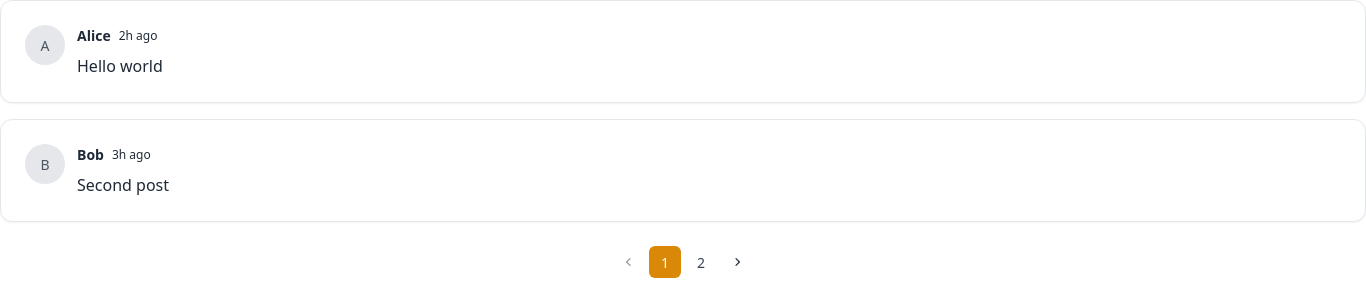
Test: Feed › navigates to next page
Click the button named "Next page" at coordinates (737, 262), box [721,246,753,278]
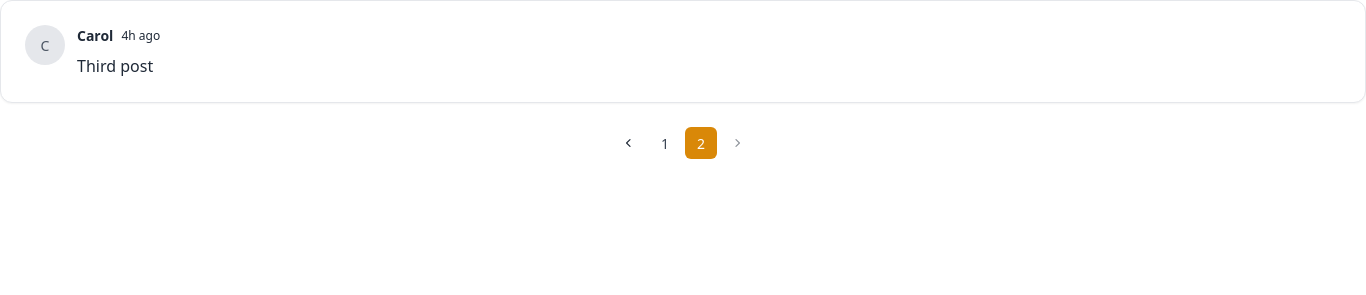
Result: the text "Carol" is shown at [77,25,113,46]
Result: the text "Alice" is gone
